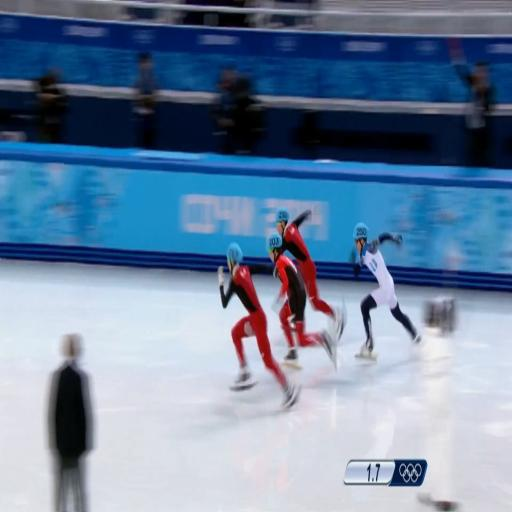Skater: (218, 244, 300, 408), (269, 234, 340, 368), (351, 223, 420, 358), (276, 208, 346, 339)
